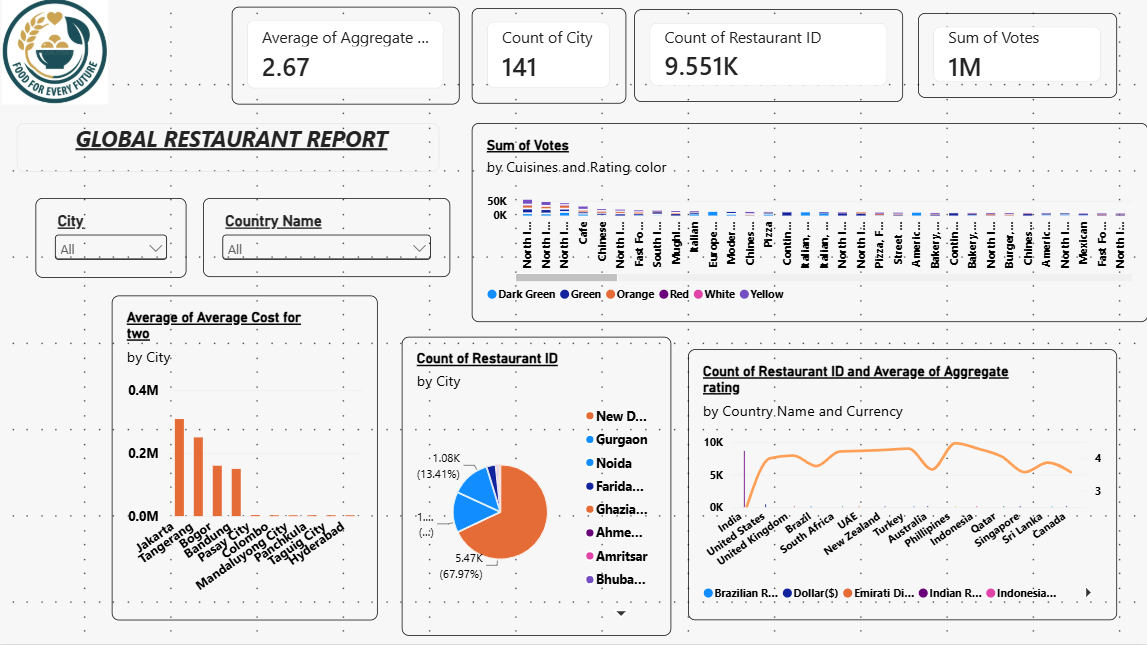

The page's visual inventory and layout, read from the dashboard file:
{"tool":"powerbi","page":{"name":"Page 1","canvas":[1280,720],"ordinal":0},"visuals":[{"type":"columnChart","fields":{"Category":["Table 1 (Restaurant Details).City"],"Y":["Avg(Table 1 (Restaurant Details).Average Cost for two)"]},"box":[126.6,331.1,296.3,361.7],"z":0},{"type":"pieChart","fields":{"Category":["Table 1 (Restaurant Details).City"],"Y":["CountNonNull(Table 1 (Restaurant Details).Restaurant ID)"]},"box":[449.4,377,300,332.9],"z":1000},{"type":"columnChart","fields":{"Category":["Table 1 (Restaurant Details).Cuisines"],"Series":["Table 1 (Restaurant Details).Rating color"],"Y":["Sum(Table 1 (Restaurant Details).Votes)"]},"box":[527.3,139.1,752.7,221.2],"z":2000},{"type":"slicer","fields":{"Values":["Table 1 (Restaurant Details).Country Name"]},"box":[228.2,222.6,275.5,87.7],"z":3000},{"type":"slicer","fields":{"Values":["Table 1 (Restaurant Details).City"]},"box":[41.7,222.6,168.3,89],"z":4000},{"type":"lineClusteredColumnComboChart","fields":{"Category":["Table 1 (Restaurant Details).Country Name"],"Y":["CountNonNull(Table 1 (Restaurant Details).Restaurant ID)"],"Y2":["Avg(Table 1 (Restaurant Details).Aggregate rating)"],"Series":["Table 1 (Restaurant Details).Currency"]},"box":[768,391,477.2,301.9],"z":5000},{"type":"cardVisual","fields":{"Data":["Sum(Table 1 (Restaurant Details).Votes)"]},"box":[1024,16.7,221.2,94.6],"z":6000},{"type":"cardVisual","fields":{"Data":["CountNonNull(Table 1 (Restaurant Details).Restaurant ID)"]},"box":[708.2,12.5,299.1,103],"z":7000},{"type":"cardVisual","fields":{"Data":["Count(Table 1 (Restaurant Details).City)"]},"box":[527.3,11.1,171.6,106.8],"z":8000},{"type":"cardVisual","fields":{"Data":["Avg(Table 1 (Restaurant Details).Aggregate rating)"]},"box":[260.2,9.7,253.2,108.5],"z":9000},{"type":"textbox","box":[20.9,139.1,470.3,54.3],"z":10000},{"type":"image","box":[0,0,126.6,118.3],"z":11000}]}

Visuals, with their boxes in screenshot pixels (x1, y1, x2, y2), scaled from the page's 1280x720 canvas onto the 1147x645 screenshot:
columnChart - Table 1 (Restaurant Details).City x Avg(Table 1 (Restaurant Details).Average Cost for two): bbox(113, 297, 379, 621)
pieChart - Table 1 (Restaurant Details).City x CountNonNull(Table 1 (Restaurant Details).Restaurant ID): bbox(403, 338, 672, 636)
columnChart - Table 1 (Restaurant Details).Cuisines x Table 1 (Restaurant Details).Rating color: bbox(473, 125, 1146, 323)
slicer - Table 1 (Restaurant Details).Country Name: bbox(204, 199, 451, 278)
slicer - Table 1 (Restaurant Details).City: bbox(37, 199, 188, 279)
lineClusteredColumnComboChart - Table 1 (Restaurant Details).Country Name x CountNonNull(Table 1 (Restaurant Details).Restaurant ID): bbox(688, 350, 1116, 621)
cardVisual - Sum(Table 1 (Restaurant Details).Votes): bbox(918, 15, 1116, 100)
cardVisual - CountNonNull(Table 1 (Restaurant Details).Restaurant ID): bbox(635, 11, 903, 103)
cardVisual - Count(Table 1 (Restaurant Details).City): bbox(473, 10, 626, 106)
cardVisual - Avg(Table 1 (Restaurant Details).Aggregate rating): bbox(233, 9, 460, 106)
textbox: bbox(19, 125, 440, 173)
image: bbox(0, 0, 113, 106)
